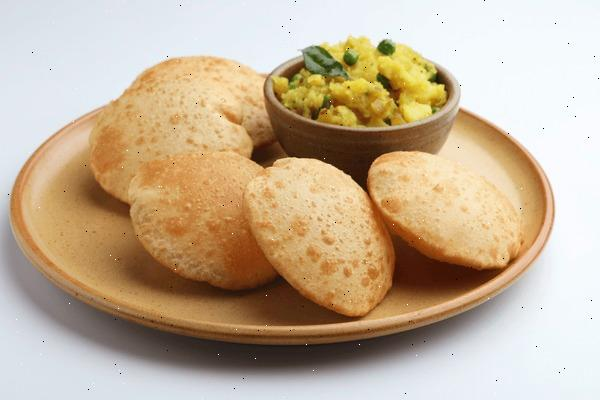puri: (95, 148, 530, 315)
